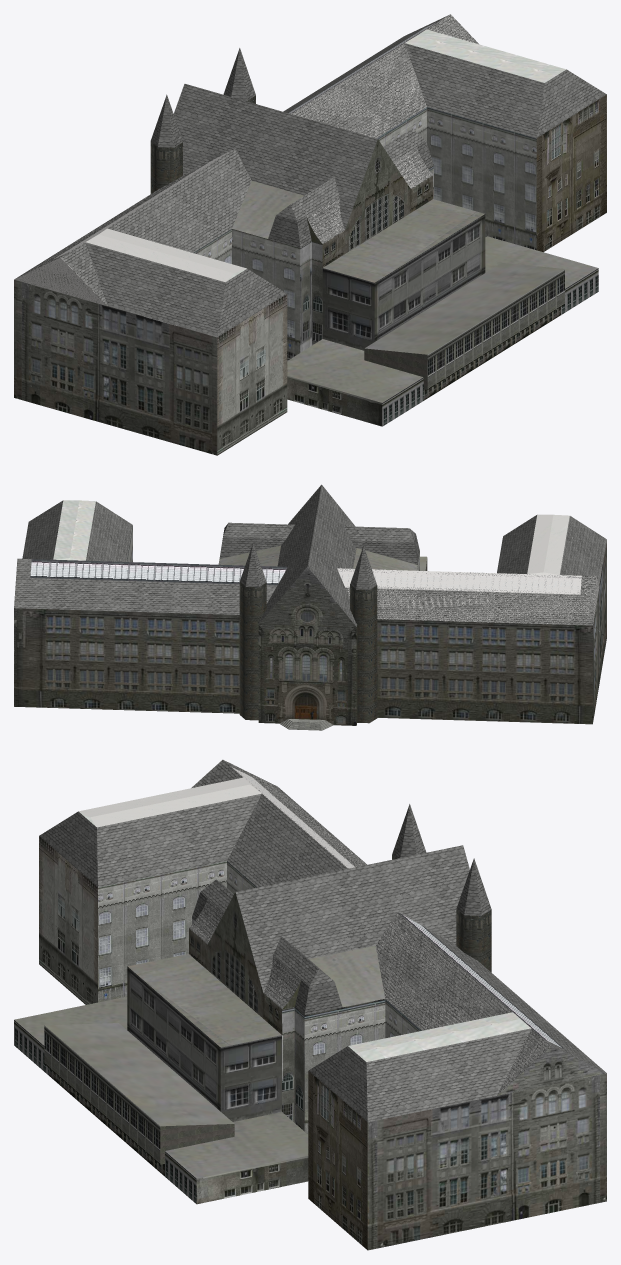
The model's file is Grp 7 Hovedbygg Gloshaugen.dae.
3 views of the same model, one above another, from view 1: azimuth 30°, elevation 25°; view 2: azimuth 150°, elevation 25°; view 3: azimuth 270°, elevation 25° (orthographic). The views are drawn at different scales.
Parts seen in each view (by area): view 1: sidedeler_framme (×10), hoveddel (×6), hoyeste_bygg_bakdel (×3), midtre_del_bak (×4), lavest_del_bak (×5), tårn (×3), skråtak; view 2: sidedeler_framme (×9), hoveddel (×5), tårn (×6), skråtak (×2), trapp; view 3: sidedeler_framme (×12), hoveddel (×6), hoyeste_bygg_bakdel (×3), midtre_del_bak (×4), lavest_del_bak (×5), tårn (×4), skråtak.
Boxes of the visible parts, x1,y1,x2,y2 form: sidedeler_framme (×10): (14,14,606,455); hoveddel (×6): (173,84,433,360); hoyeste_bygg_bakdel (×3): (322,199,485,350); midtre_del_bak (×4): (364,263,564,400); lavest_del_bak (×5): (287,236,598,426); tårn (×3): (150,48,255,169); skråtak: (232,180,303,238); sidedeler_framme (×9): (14,500,606,724); hoveddel (×5): (219,484,419,725); tårn (×6): (239,543,377,723); skråtak (×2): (218,545,417,570); trapp: (279,719,333,730); sidedeler_framme (×12): (39,760,606,1250); hoveddel (×6): (189,845,469,1134); hoyeste_bygg_bakdel (×3): (127,954,281,1121); midtre_del_bak (×4): (44,1023,234,1176); lavest_del_bak (×5): (14,996,308,1204); tårn (×4): (392,804,491,972); skråtak: (309,945,385,1007).
Bounding box in the file's own units: 4422 × 3301 × 1378.
27 materials, 26 textured.
